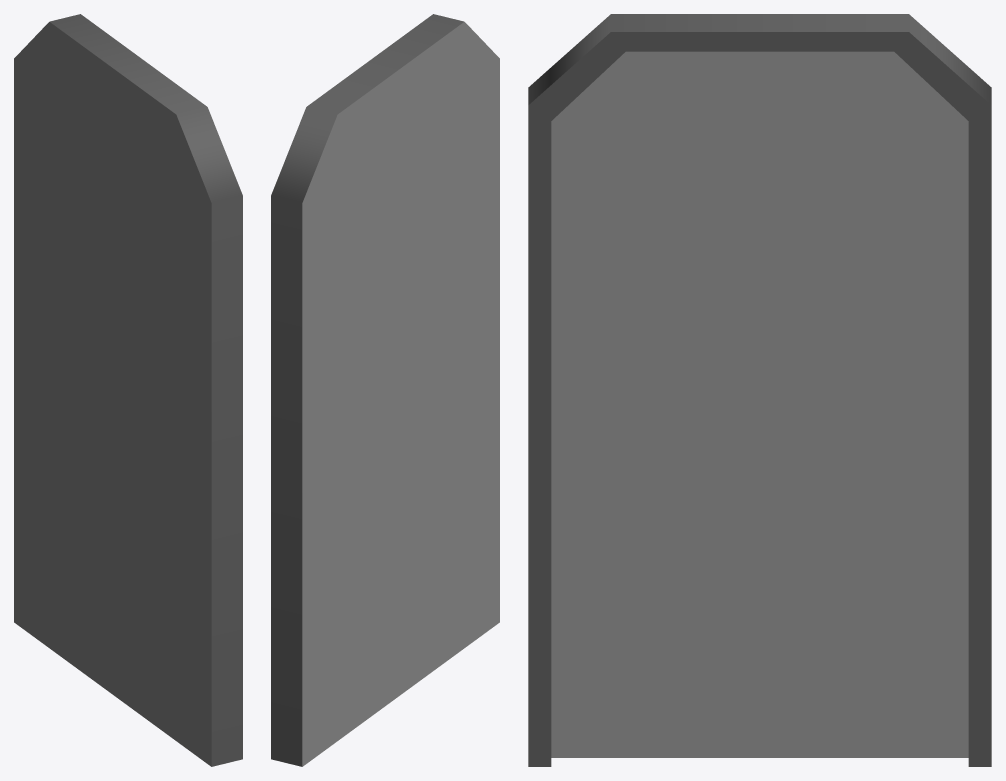
Rendered from Lab_Door.fbx.
3 views of the same model, side by side, from view 1: azimuth 30°, elevation 25°; view 2: azimuth 150°, elevation 25°; view 3: azimuth 270°, elevation 25° (orthographic). The views are drawn at different scales.
Visible parts, largest first — view 1: Door; view 2: Door; view 3: Door.
Part boxes in pixels (<box>): Door: <box>14,14,242,766</box>; Door: <box>271,14,499,766</box>; Door: <box>528,14,991,766</box>.
Bounding box in the file's own units: 0.345 × 6.6 × 3.77.
Materials: 2 (2 with a texture image).
